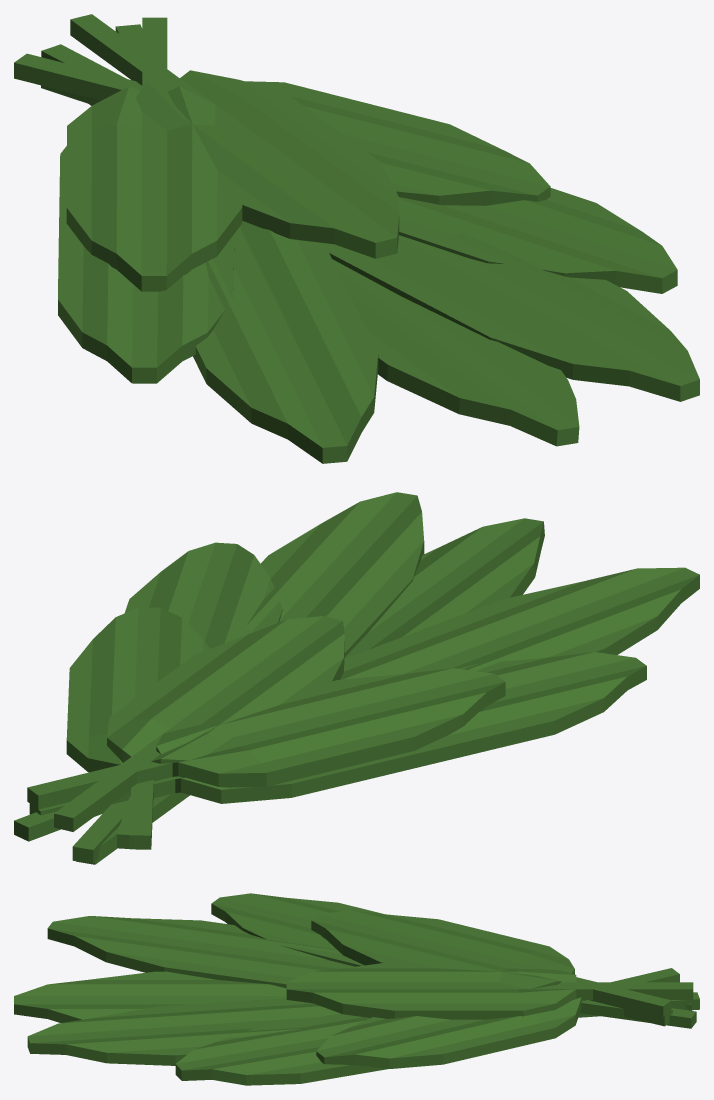
Rendered from ClockworkPixie_Test_Herbs.fbx.
The picture shows the model from 3 angles, top to bottom: view 1: azimuth 30°, elevation 25°; view 2: azimuth 150°, elevation 25°; view 3: azimuth 270°, elevation 25°; orthographic projection. The views are drawn at different scales.
Parts seen in each view (by area): view 1: Cube.003, Cube.006, Cube.004, Cube, Cube.002, Cube.007, Cube.005, Cube.001; view 2: Cube, Cube.006, Cube.003, Cube.004, Cube.001, Cube.007, Cube.002, Cube.005; view 3: Cube.006, Cube.003, Cube, Cube.004, Cube.007, Cube.005, Cube.002, Cube.001.
Boxes of the visible parts, <box> form: Cube.003: <box>115,24,378,463</box>; Cube.006: <box>70,14,399,258</box>; Cube.004: <box>41,44,699,401</box>; Cube: <box>66,17,242,291</box>; Cube.002: <box>89,104,579,446</box>; Cube.007: <box>14,53,550,205</box>; Cube.005: <box>41,85,677,293</box>; Cube.001: <box>58,34,234,383</box>; Cube: <box>27,668,505,809</box>; Cube.006: <box>54,616,344,831</box>; Cube.003: <box>14,567,699,841</box>; Cube.004: <box>72,492,424,863</box>; Cube.001: <box>29,652,646,815</box>; Cube.007: <box>66,607,209,849</box>; Cube.002: <box>76,518,544,864</box>; Cube.005: <box>117,542,282,849</box>; Cube.006: <box>286,961,693,1019</box>; Cube.003: <box>47,916,696,1028</box>; Cube: <box>311,910,671,1016</box>; Cube.004: <box>27,992,699,1065</box>; Cube.007: <box>316,968,679,1068</box>; Cube.005: <box>175,1013,387,1085</box>; Cube.002: <box>14,971,691,1022</box>; Cube.001: <box>211,893,672,1026</box>.
Size of the model in its own units: 700 by 76.24 by 1175.
